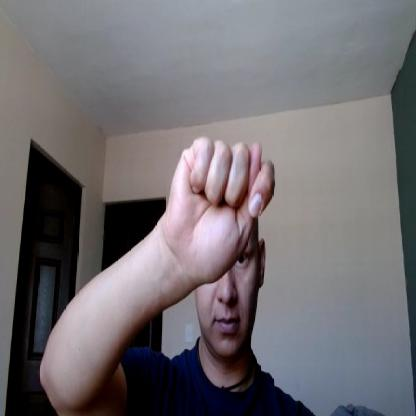T: (167, 134, 277, 284)
